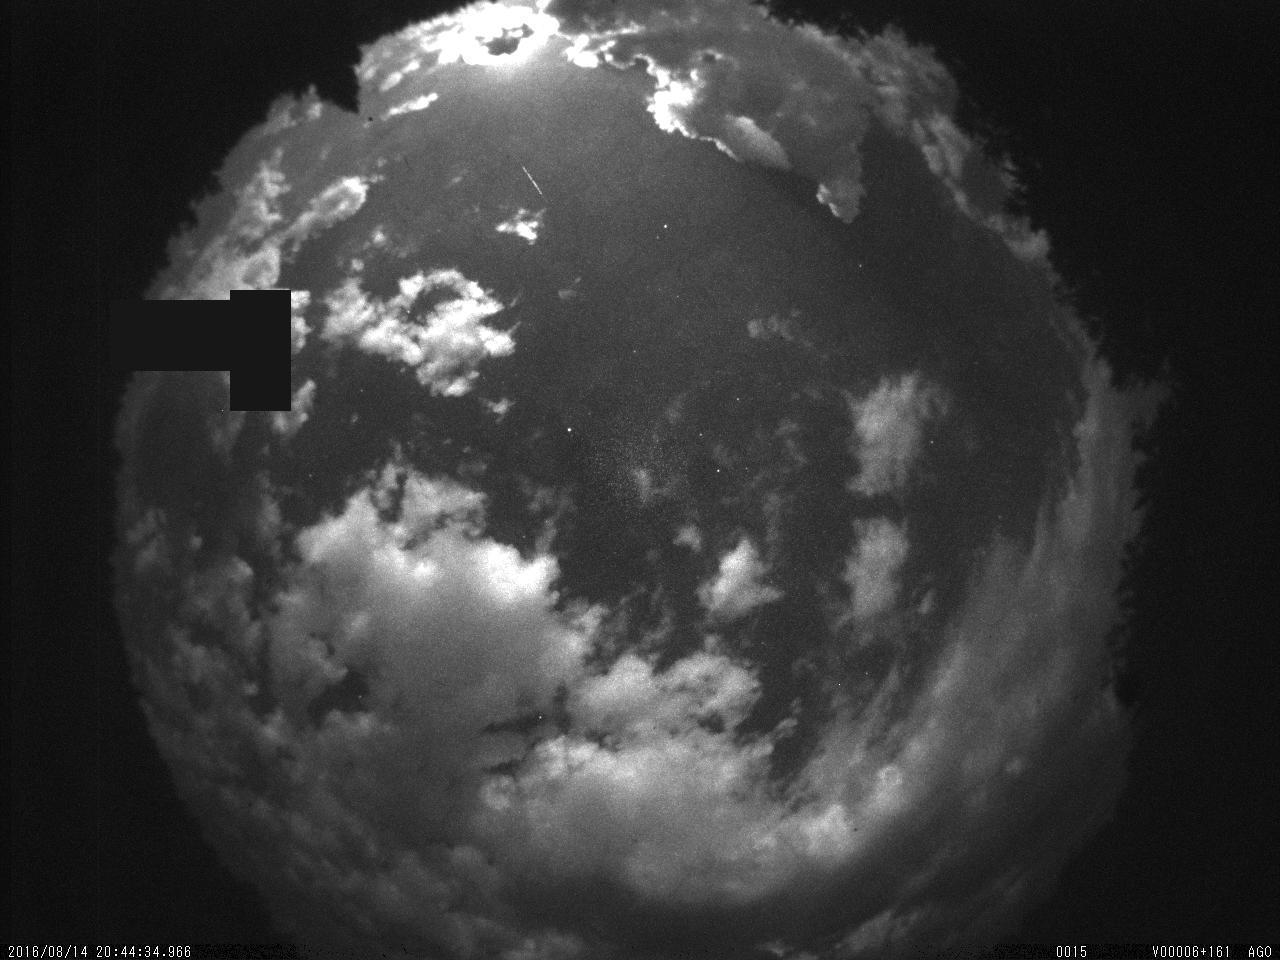Meteor: (512, 151, 554, 207)
